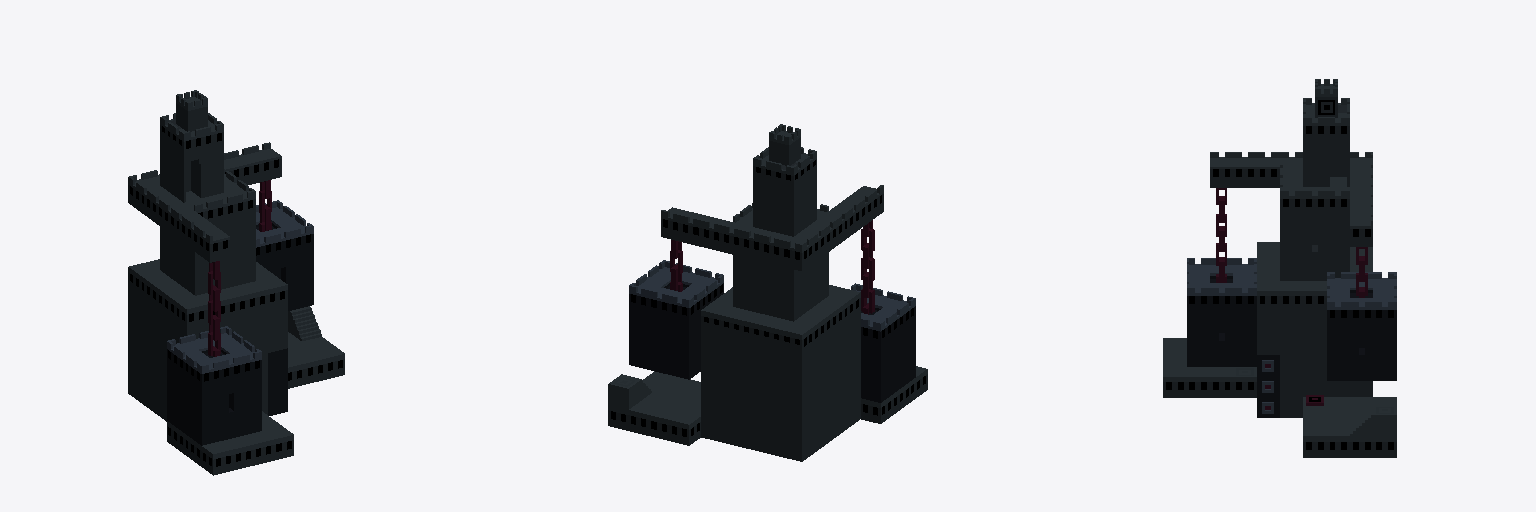
3 views of the same model, side by side, from view 1: azimuth 30°, elevation 25°; view 2: azimuth 150°, elevation 25°; view 3: azimuth 270°, elevation 25° (orthographic).
Visible parts, largest first — view 1: CastleBit2; view 2: CastleBit2; view 3: CastleBit2.
Boxes of the visible parts, x1,y1,x2,y2 form: CastleBit2: [128, 90, 344, 475]; CastleBit2: [608, 124, 927, 461]; CastleBit2: [1163, 79, 1396, 457].
Bounding box in the file's own units: 80 × 115 × 80.
Materials: 1 (1 with a texture image).